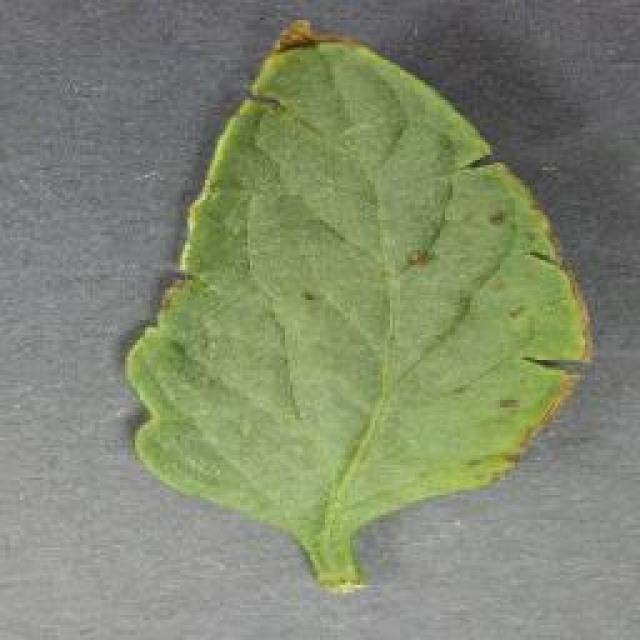bacterial spot: (121, 17, 593, 587)
